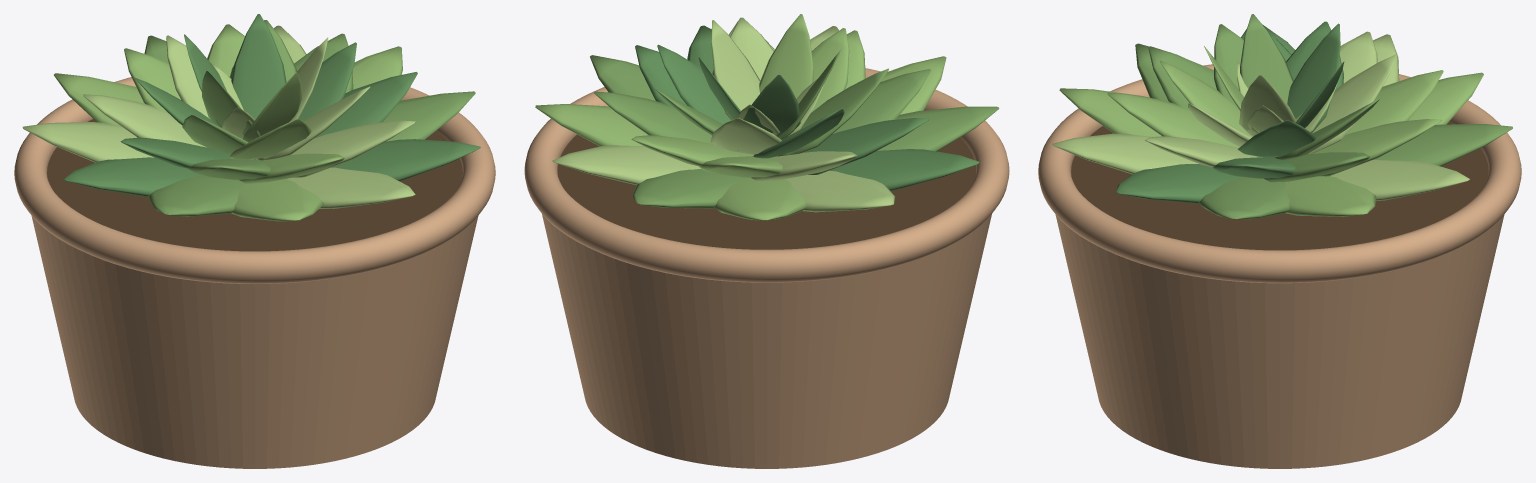
The model's file is Suculenta 2.glb.
3 renders of one model, left to right at view 1: azimuth 30°, elevation 25°; view 2: azimuth 150°, elevation 25°; view 3: azimuth 270°, elevation 25°, orthographic.
Parts seen in each view (by area): view 1: Vaso de ceramica; view 2: Vaso de ceramica; view 3: Vaso de ceramica.
Boxes of the visible parts, left/top/right/bottom form: Vaso de ceramica: left=14, top=14, right=495, bottom=468; Vaso de ceramica: left=524, top=14, right=1009, bottom=468; Vaso de ceramica: left=1038, top=14, right=1521, bottom=468.
Bounding box in the file's own units: 1.91 × 1.52 × 1.91.
